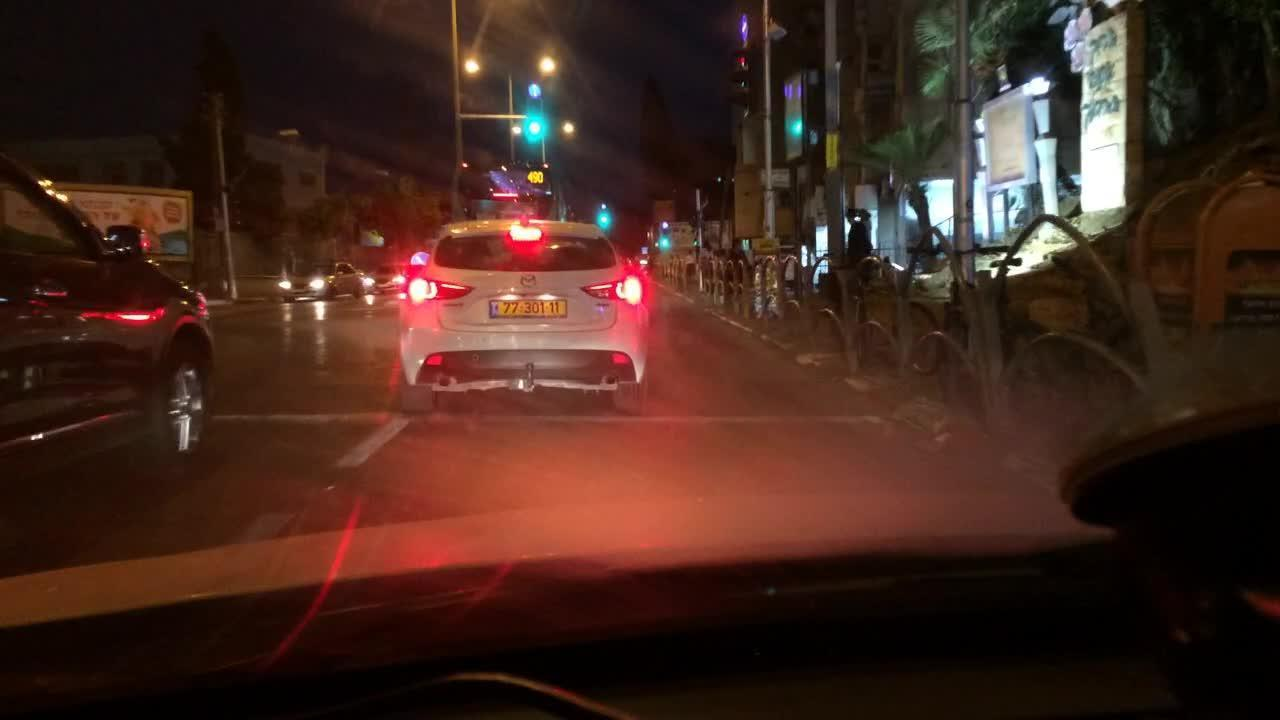Mazda: (520, 273, 538, 288)
